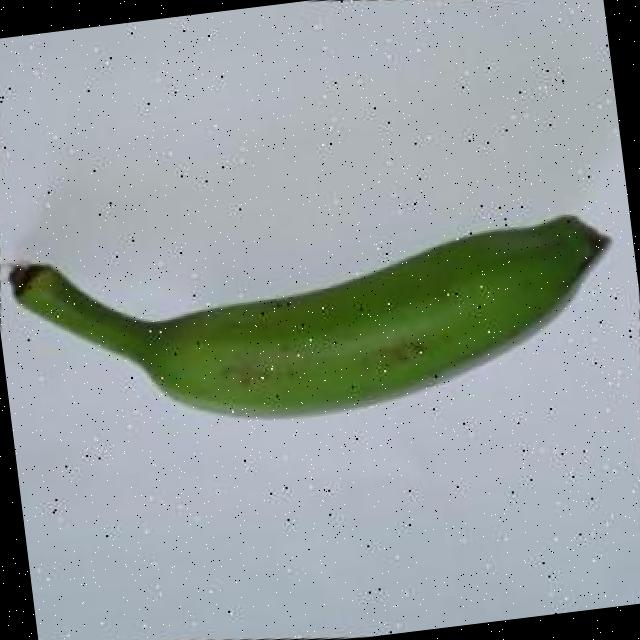Unripe: (2, 188, 625, 454)
